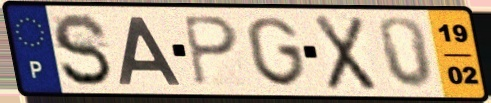0: (377, 15, 436, 92)
A: (116, 14, 184, 87)
G: (243, 15, 309, 90)
P: (179, 13, 242, 89)
S: (49, 11, 116, 89)
X: (311, 12, 379, 93)
